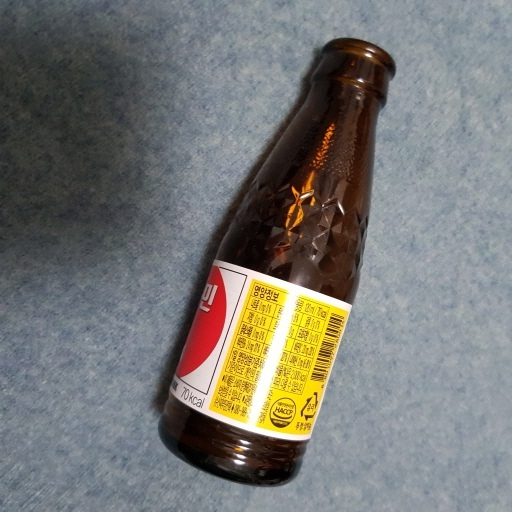Glass_3: (153, 36, 395, 490)
